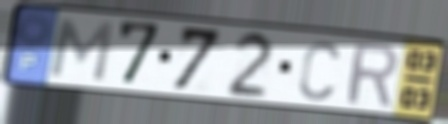2: (224, 29, 276, 102)
7: (168, 25, 225, 93), (117, 18, 163, 89)
C: (296, 39, 342, 103)
M: (46, 16, 117, 85)
R: (344, 40, 400, 110)
